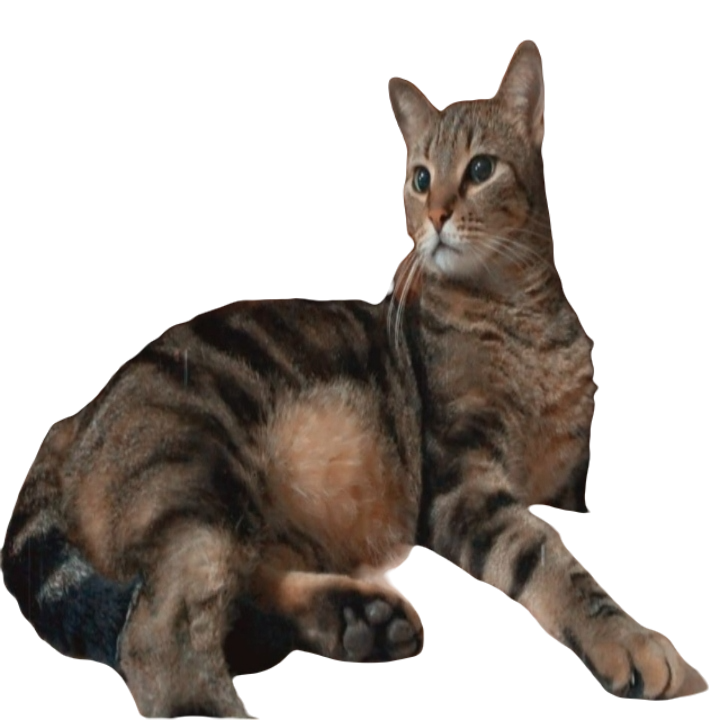Cat: (1, 37, 706, 716)
